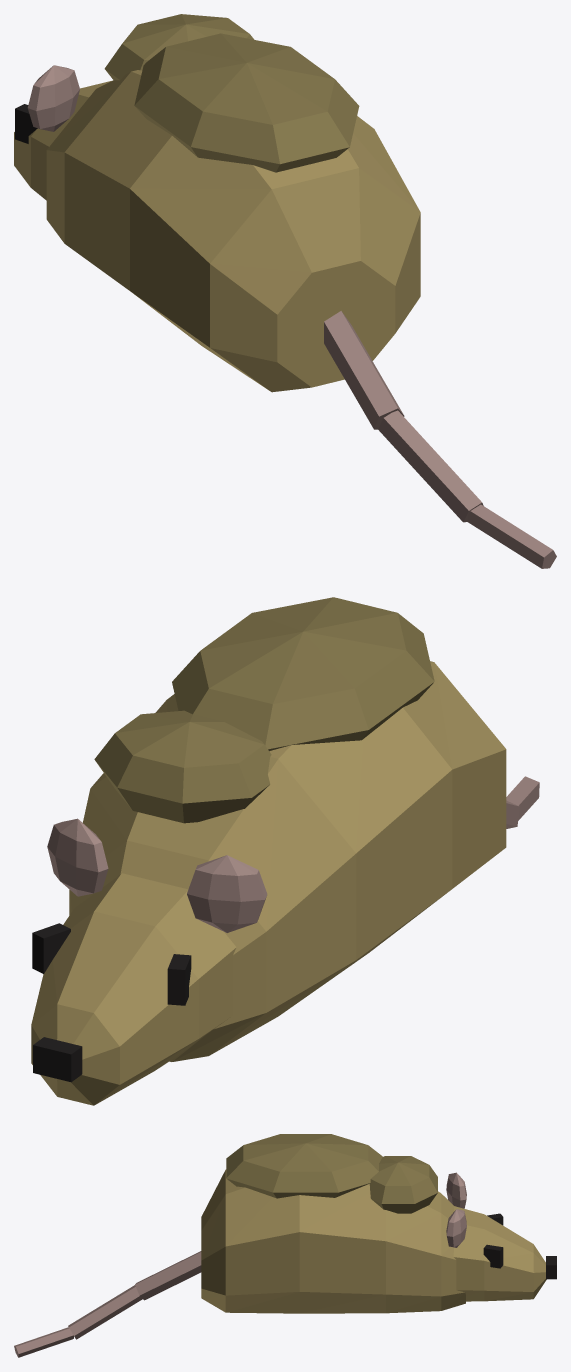
The model's file is animal_wasterat.obj.
3 views of the same model, one above another, from view 1: azimuth 30°, elevation 25°; view 2: azimuth 150°, elevation 25°; view 3: azimuth 270°, elevation 25° (orthographic). The views are drawn at different scales.
Parts seen in each view (by area): view 1: animal_wasterat; view 2: animal_wasterat; view 3: animal_wasterat.
Part boxes in pixels (x1,y1,x2,y2): animal_wasterat: (14,14,556,568); animal_wasterat: (31,597,539,1105); animal_wasterat: (14,1134,556,1357).
Bounding box in the file's own units: 0.2948 × 0.3908 × 0.9703.
